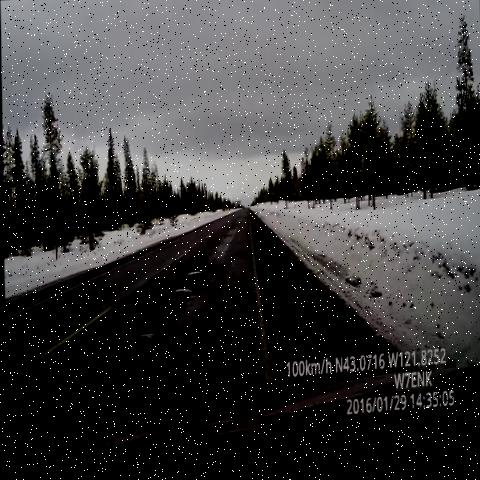pothole: (128, 328, 155, 360), (178, 263, 207, 290), (168, 282, 198, 308), (215, 223, 238, 251)
